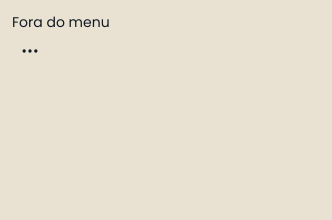
Test: ActionMenu › is a menu button that opens a menu and focuses the first enabled item
The width and height of the screenshot is (332, 220).
Step 1. Click the button named "Mais ações" → (30, 51), box [12,33,48,69]
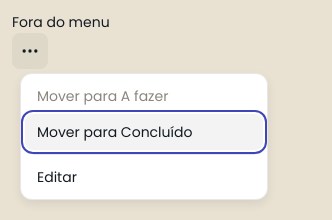
Check: the menu named "Mais ações" is shown, box [20,73,268,200]
Check: the number of menu items is 3, box [25,78,263,114]; [25,114,263,150]; [25,159,263,195]
